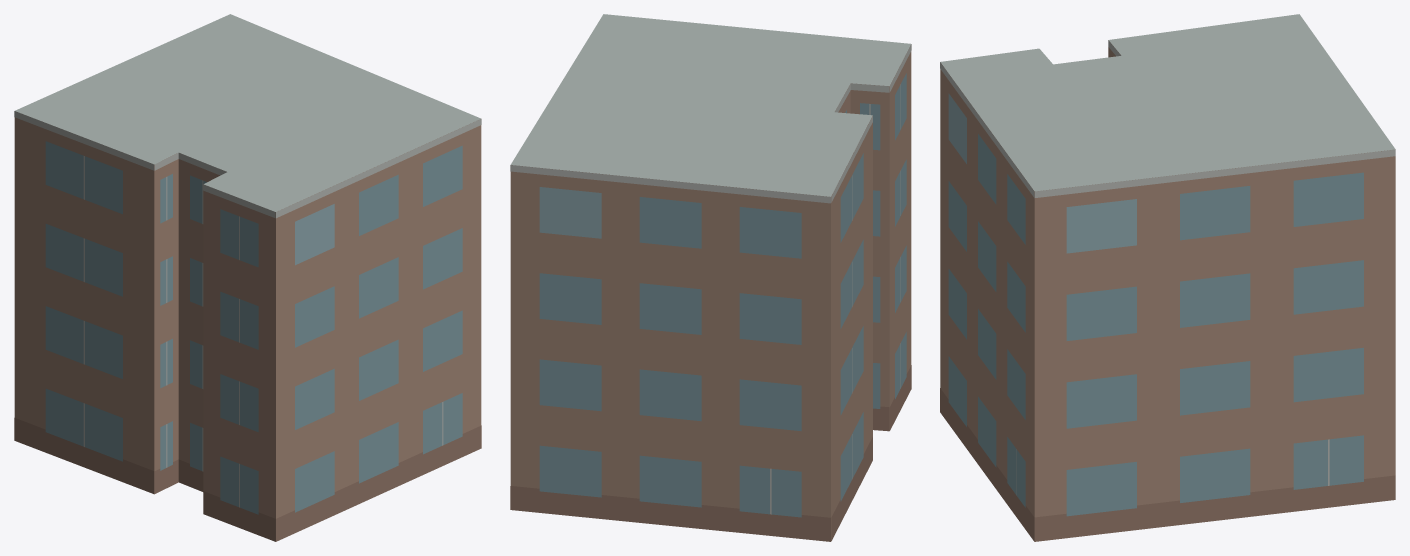
File: survey-upis-32992749.glb
3 views of the same model, side by side, from view 1: azimuth 30°, elevation 25°; view 2: azimuth 150°, elevation 25°; view 3: azimuth 270°, elevation 25° (orthographic). The views are drawn at different scales.
Parts seen in each view (by area): view 1: survey-upis-32992749.tmp; view 2: survey-upis-32992749.tmp; view 3: survey-upis-32992749.tmp.
Boxes of the visible parts, x1,y1,x2,y2 form: survey-upis-32992749.tmp: (14,14,481,541); survey-upis-32992749.tmp: (510,14,911,541); survey-upis-32992749.tmp: (940,14,1395,541).
Size of the model in its own units: 13.8 by 12.7 by 14.97.
